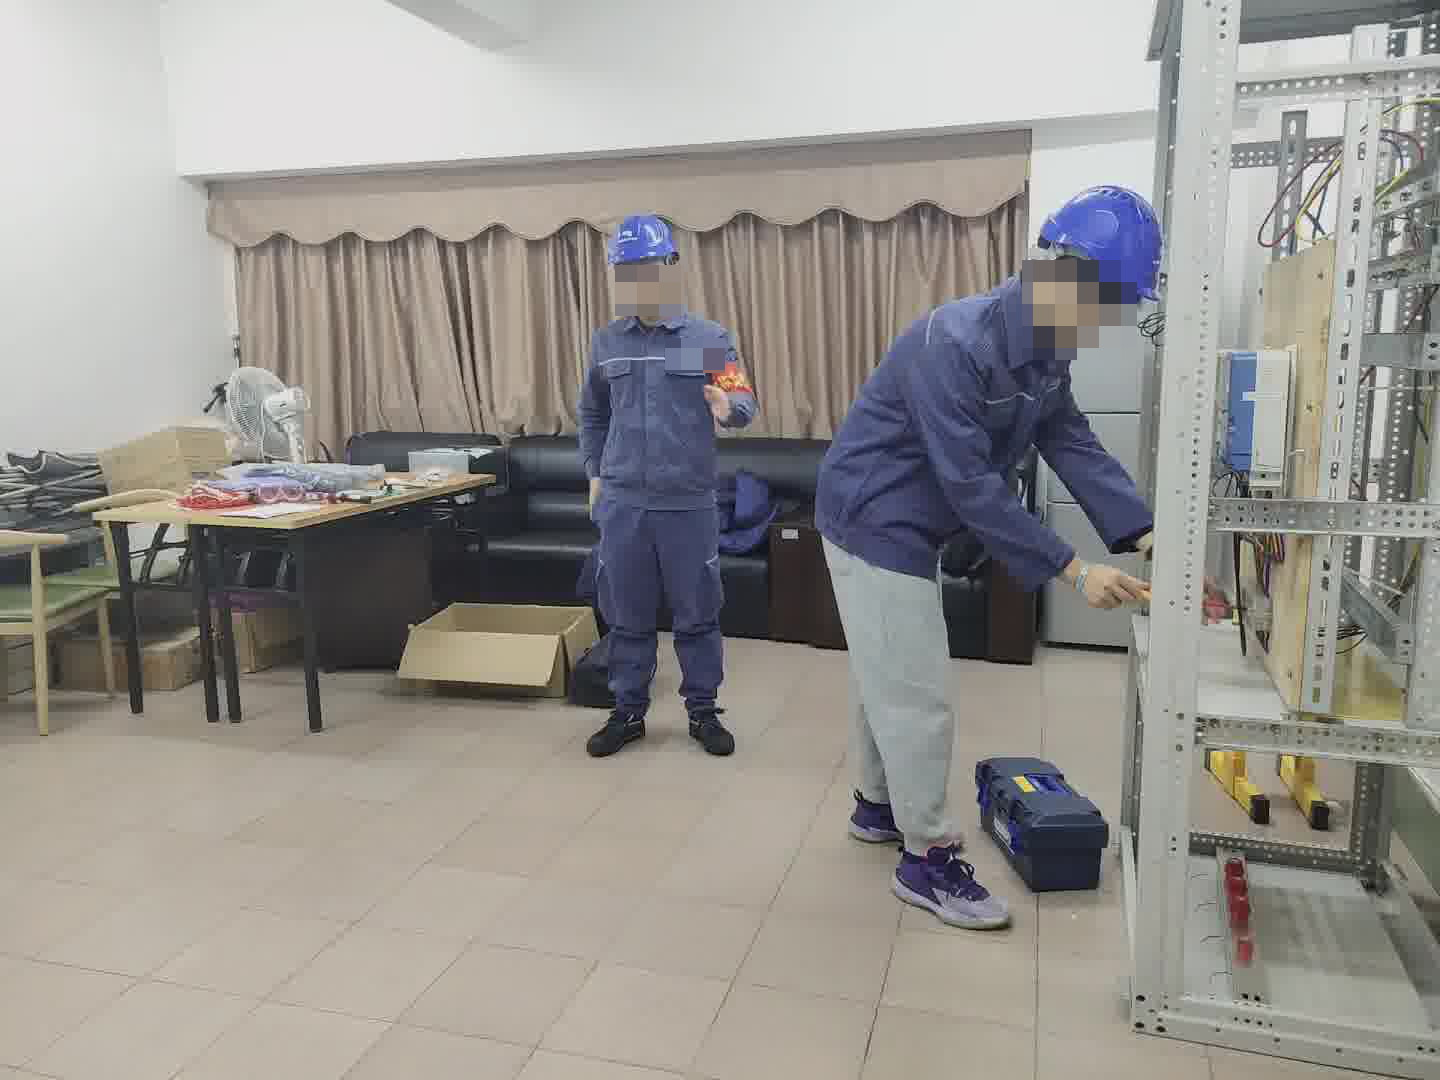badge: (703, 354, 751, 395)
downcloth: (827, 571, 963, 843)
downsuit: (587, 522, 729, 716)
halt: (1031, 181, 1166, 346), (602, 211, 686, 318)
hand: (1065, 556, 1145, 612), (697, 379, 734, 422)
noear: (1037, 255, 1080, 325)
person: (816, 177, 1165, 932), (564, 207, 760, 756)
upsuit: (819, 275, 1152, 563), (576, 304, 751, 502)
